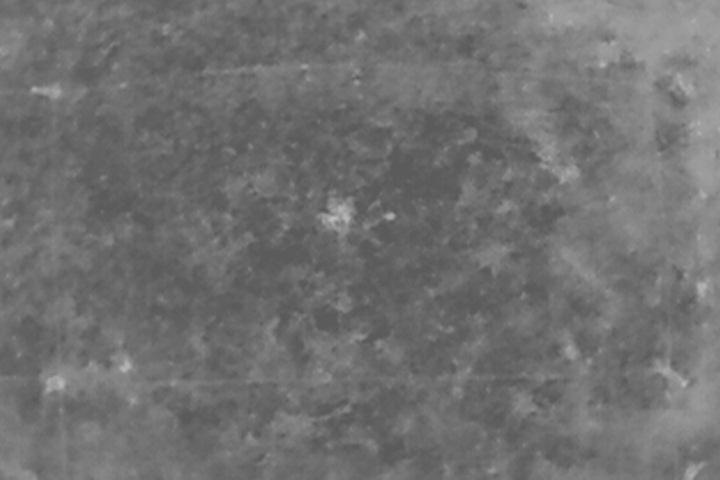landmine: (324, 202, 358, 230)
